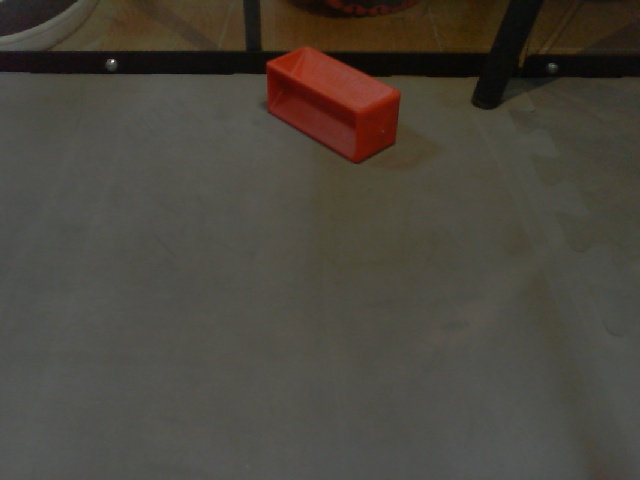RedSample: (263, 42, 403, 165)
